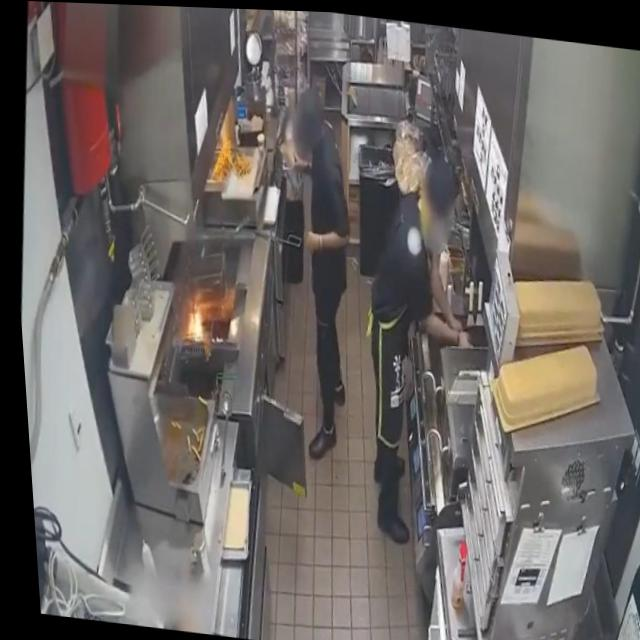fire: (177, 301, 205, 343)
